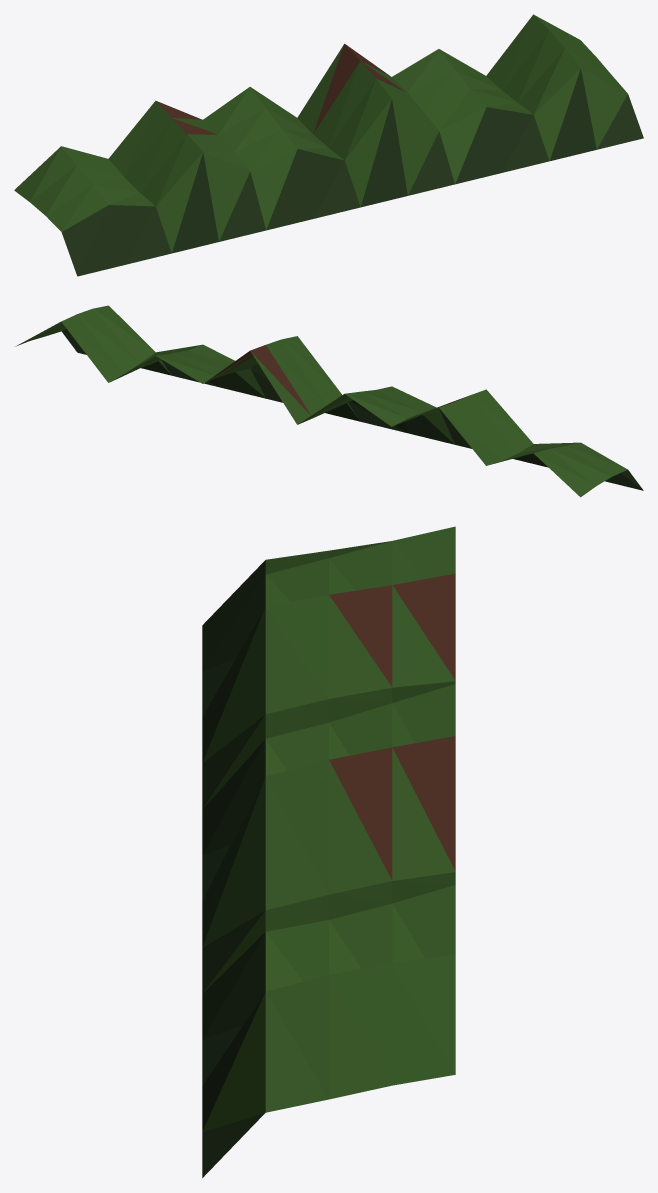
Rendered from MountainRidge.obj.
3 renders of one model, top to bottom at view 1: azimuth 30°, elevation 25°; view 2: azimuth 150°, elevation 25°; view 3: azimuth 270°, elevation 25°, orthographic. The views are drawn at different scales.
Parts seen in each view (by area): view 1: MountainRidge; view 2: MountainRidge; view 3: MountainRidge.
Boxes of the visible parts, bbox=[...] form: MountainRidge: bbox=[14, 14, 643, 276]; MountainRidge: bbox=[15, 305, 643, 497]; MountainRidge: bbox=[202, 526, 455, 1177].
Size of the model in its own units: 320 by 57.24 by 62.
